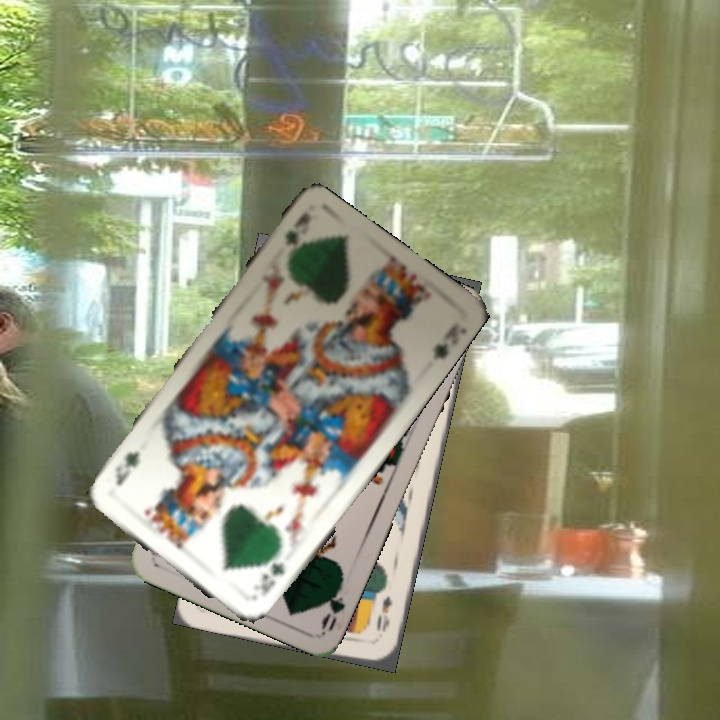EO: (372, 592, 395, 635)
GK: (251, 558, 287, 599), (281, 226, 302, 263)
GO: (317, 575, 348, 631)
